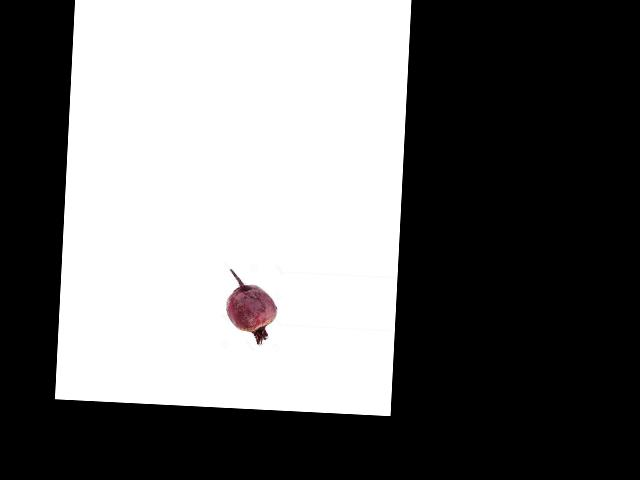beet: (223, 269, 278, 346)
